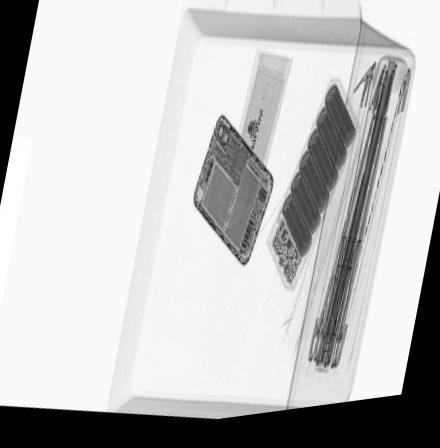Powerbank: (266, 73, 361, 313)
